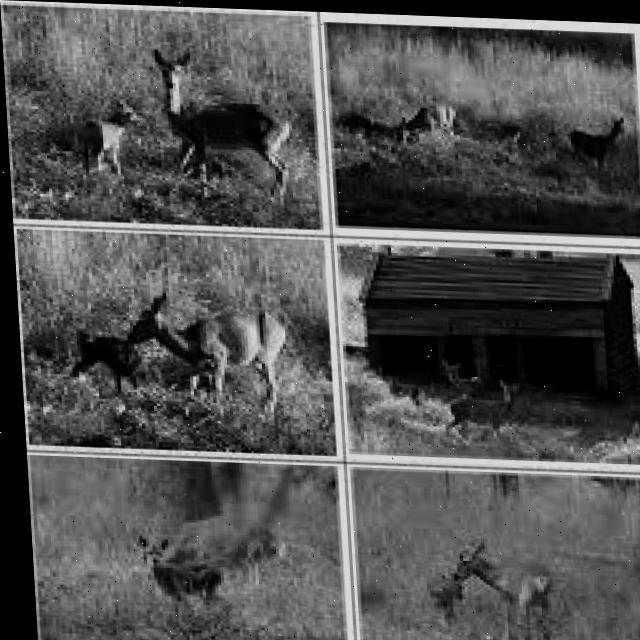Deer: (148, 34, 300, 194), (129, 286, 312, 409), (448, 544, 597, 640), (128, 510, 248, 617)
